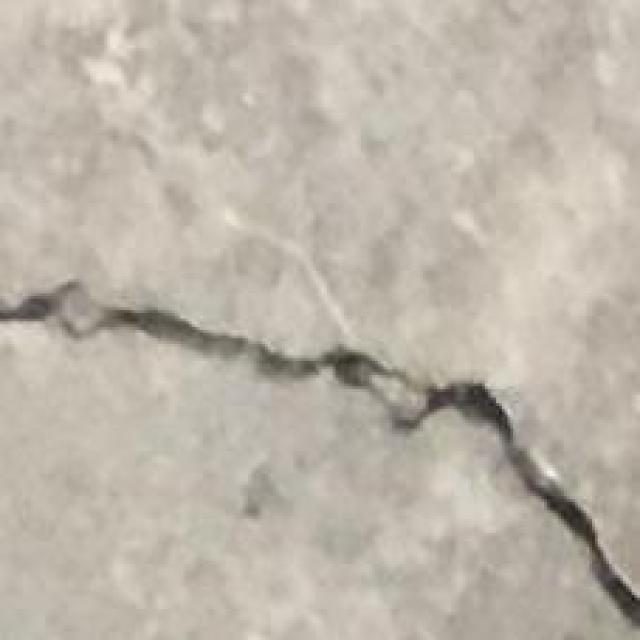diagonal crack: (0, 281, 639, 624)
